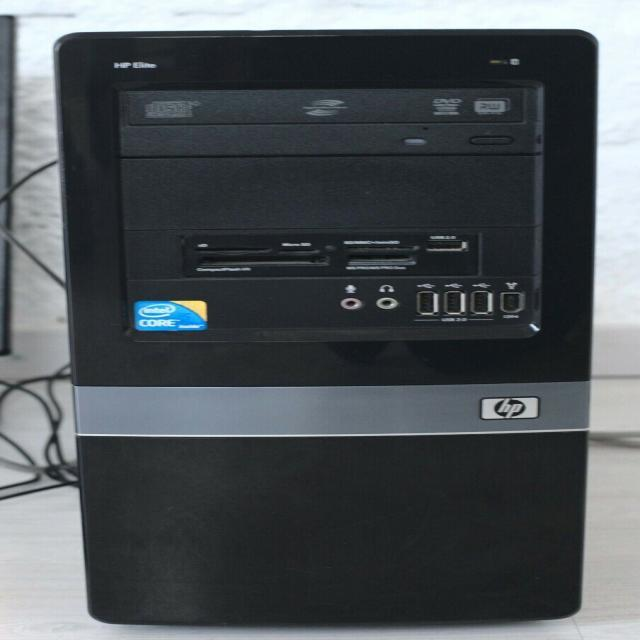Desktop-PC: (48, 18, 610, 640)
